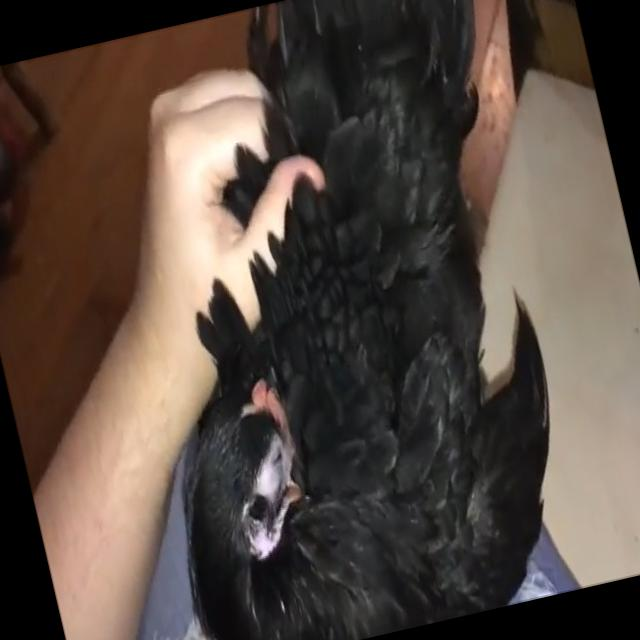self preening: (73, 0, 607, 640)
